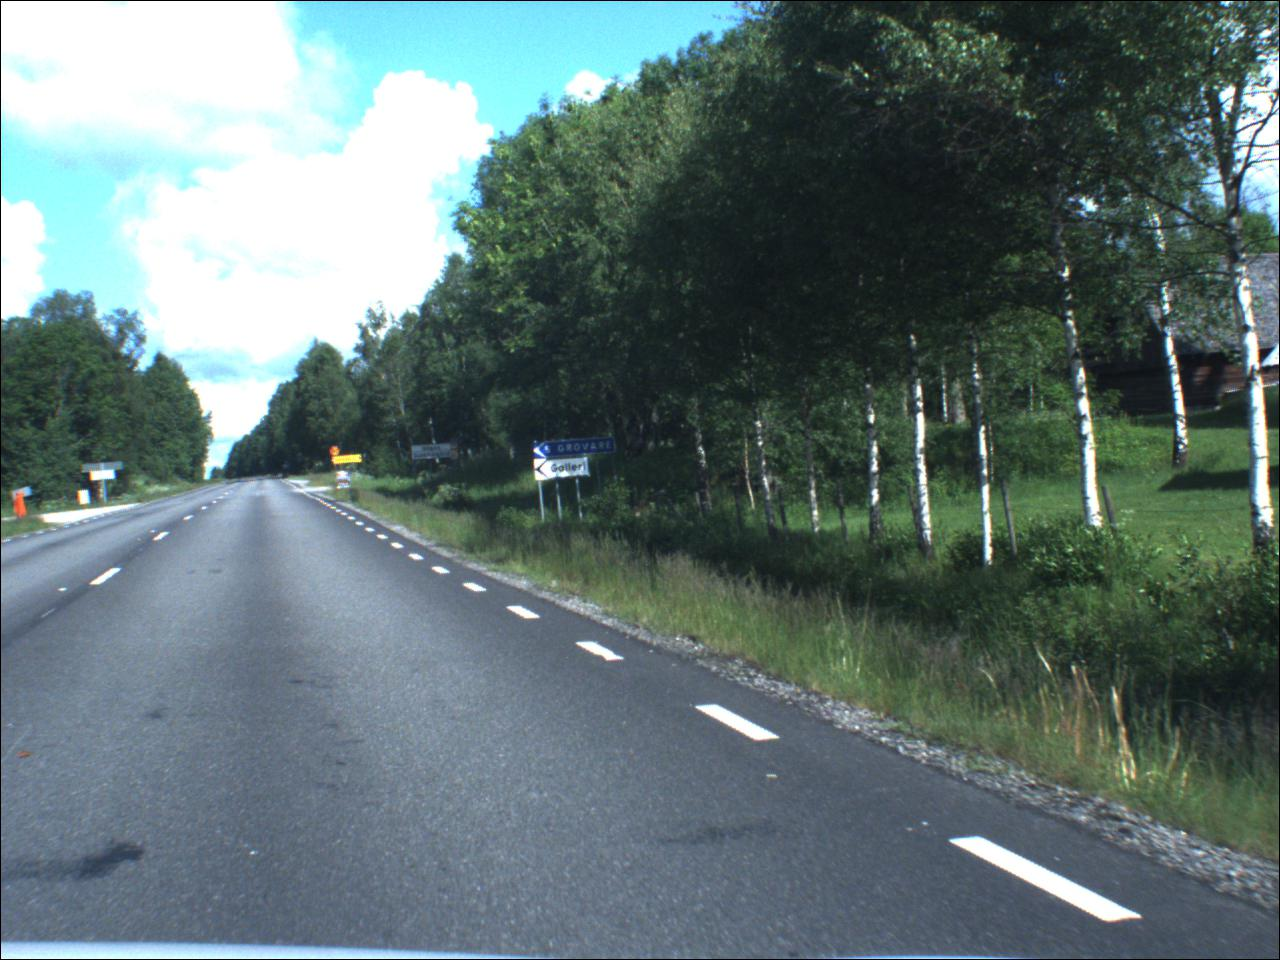80_SIGN: (330, 447, 343, 458)
